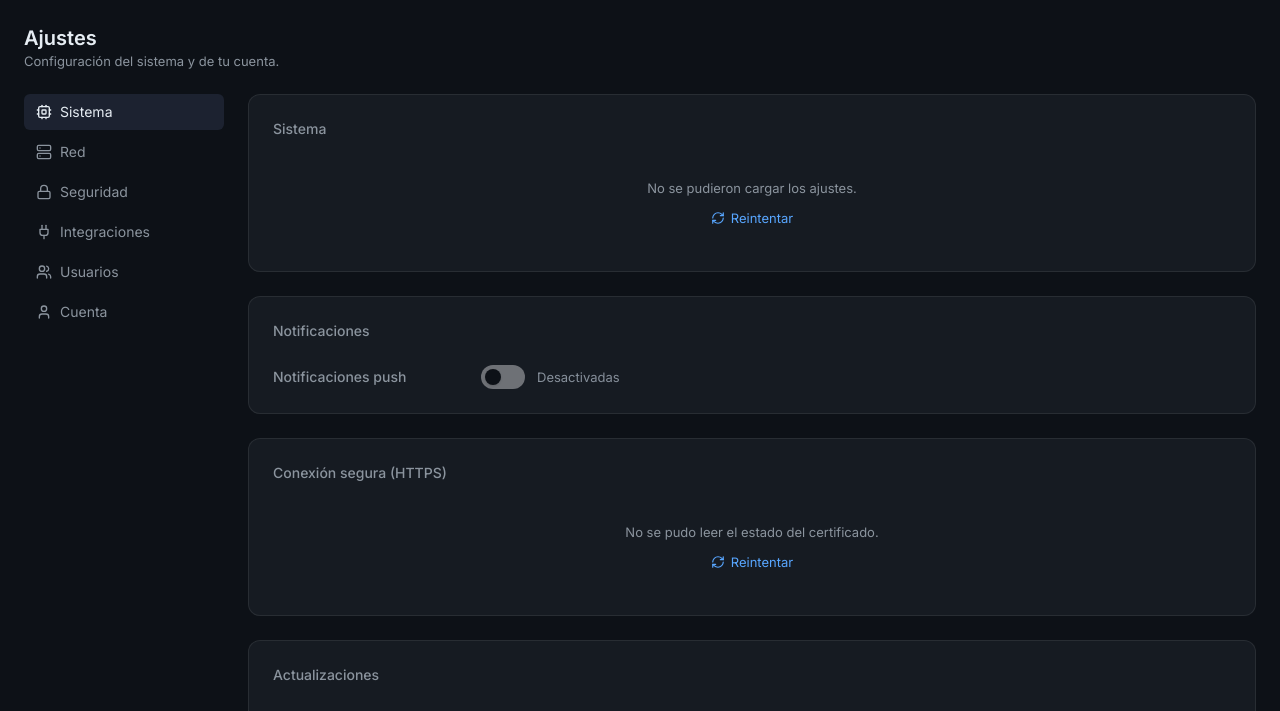
it: SettingsPage › con /system/settings caído o pendiente › Reintentar relanza la lectura y el aviso desaparece al resolver
This screenshot has width=1280, height=711.
Click the button "Seguridad": click(124, 192) [24,174,224,210]
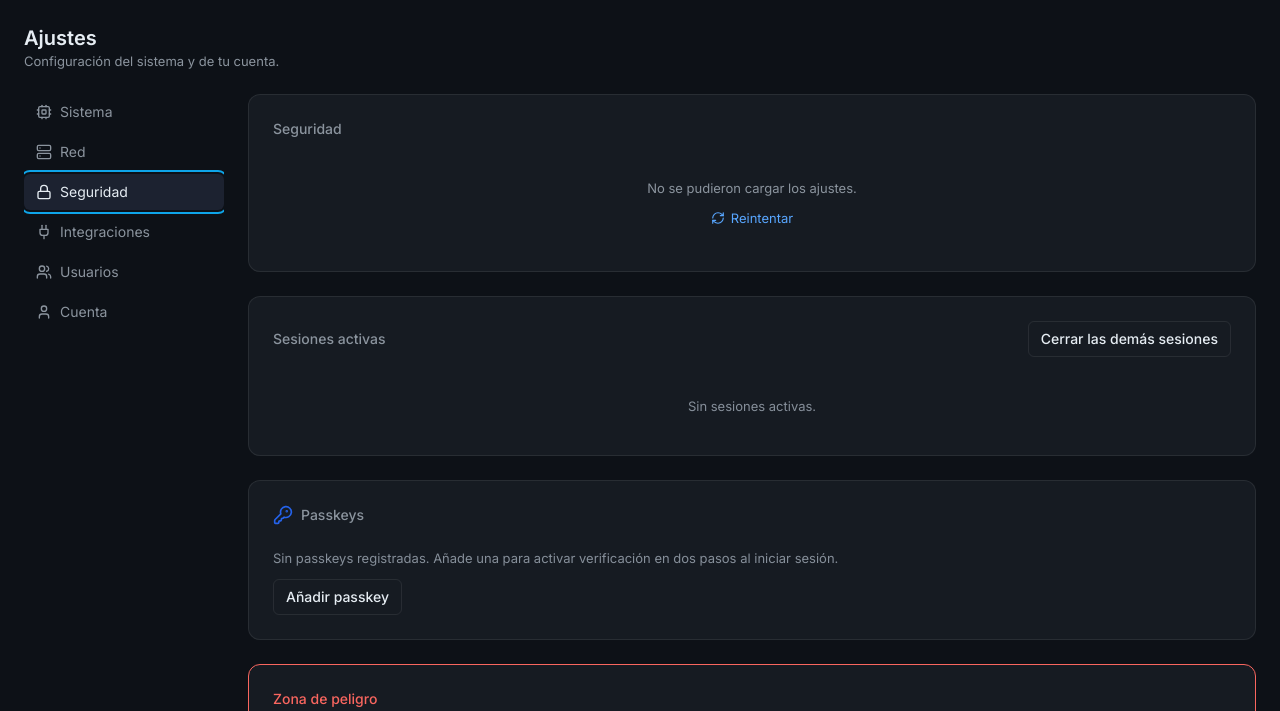
Check: the text "No se pudieron cargar los ajustes." is shown, box [647,179,857,197]
Click the button "Reintentar": click(752, 218) [703,205,801,231]
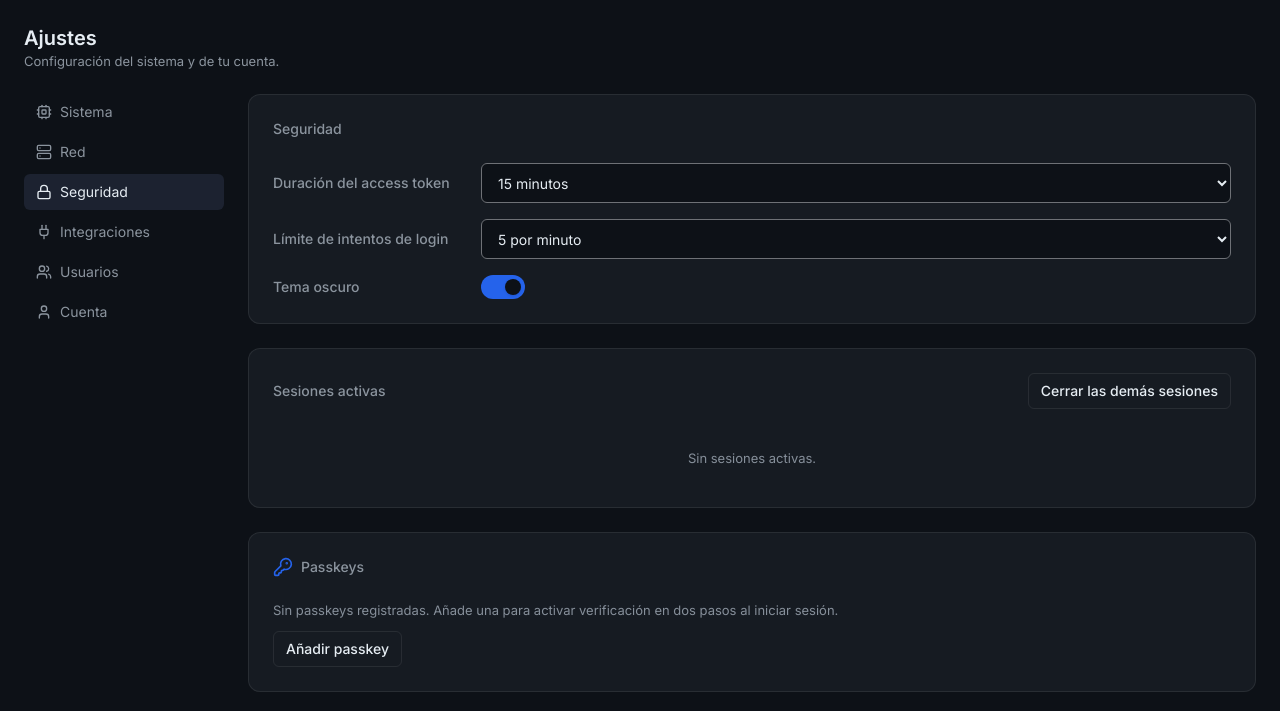
Check: the dropdown labelled "Duración del access token" is shown, box [481,163,1231,203]
Check: the text "No se pudieron cargar los ajustes." is gone
